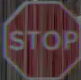Stop: (5, 4, 75, 72)
